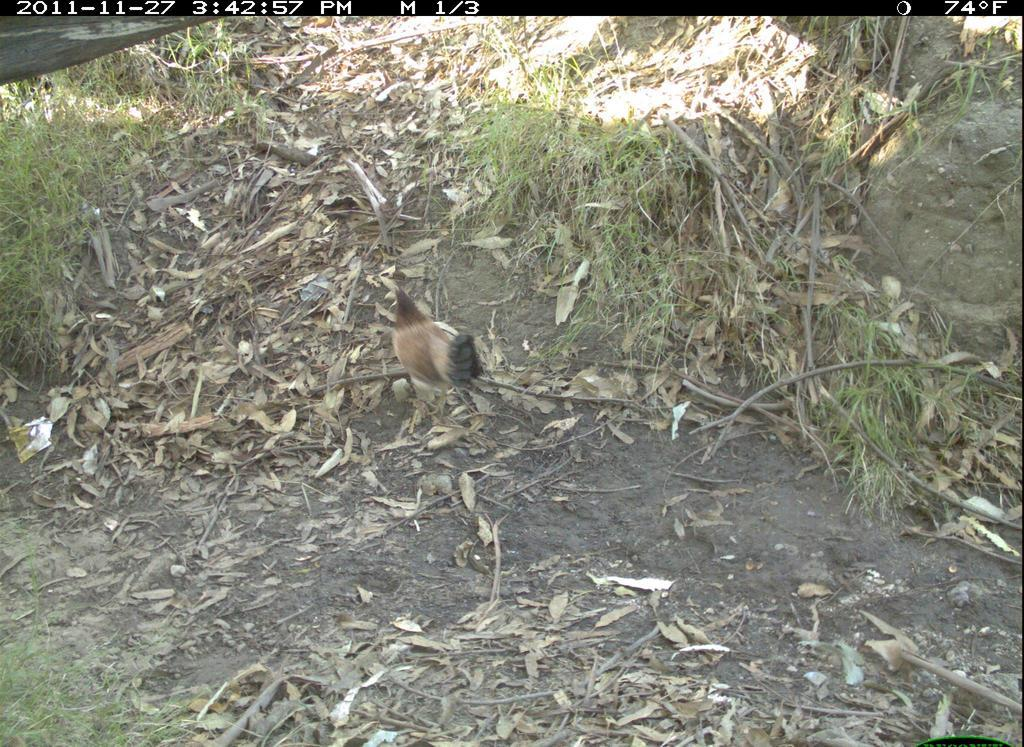bird: (382, 272, 489, 423)
